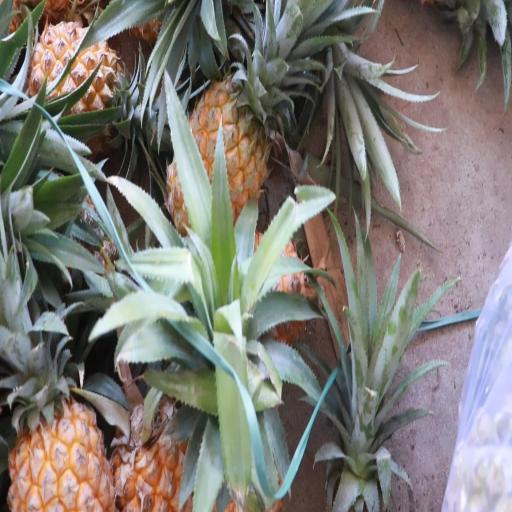Pineapple - v8 v1: (164, 54, 278, 247), (26, 9, 151, 164), (3, 360, 119, 512)
